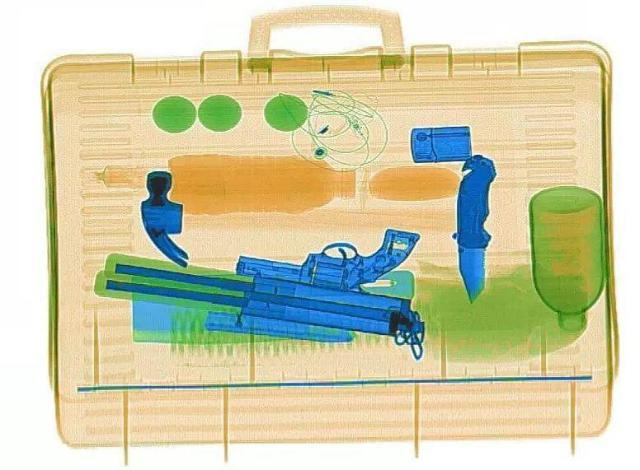Gun: (90, 225, 427, 345)
Knife: (453, 153, 499, 301)
